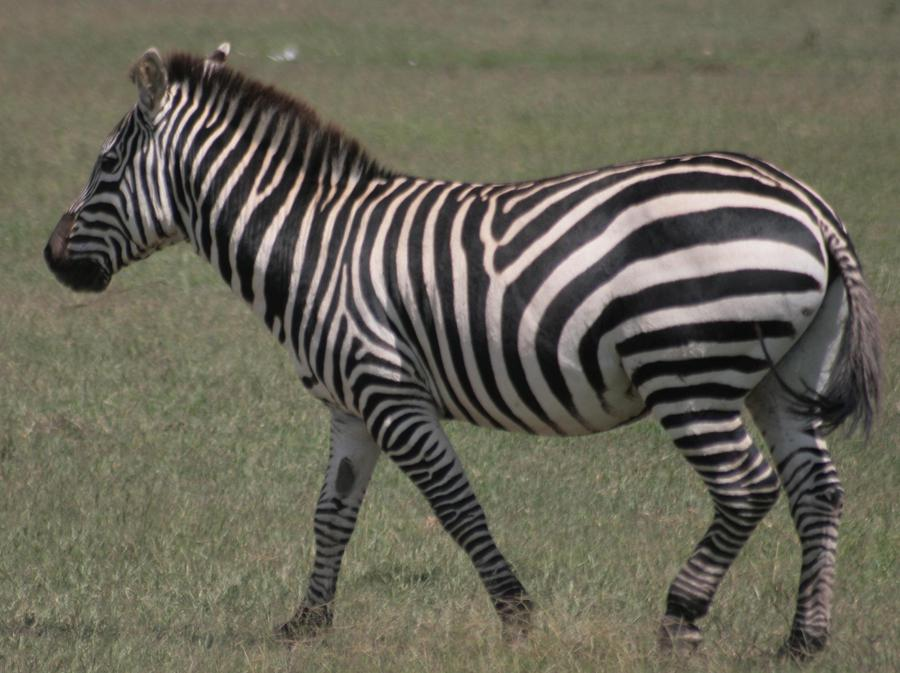zebra_plains: (277, 154, 766, 449)
